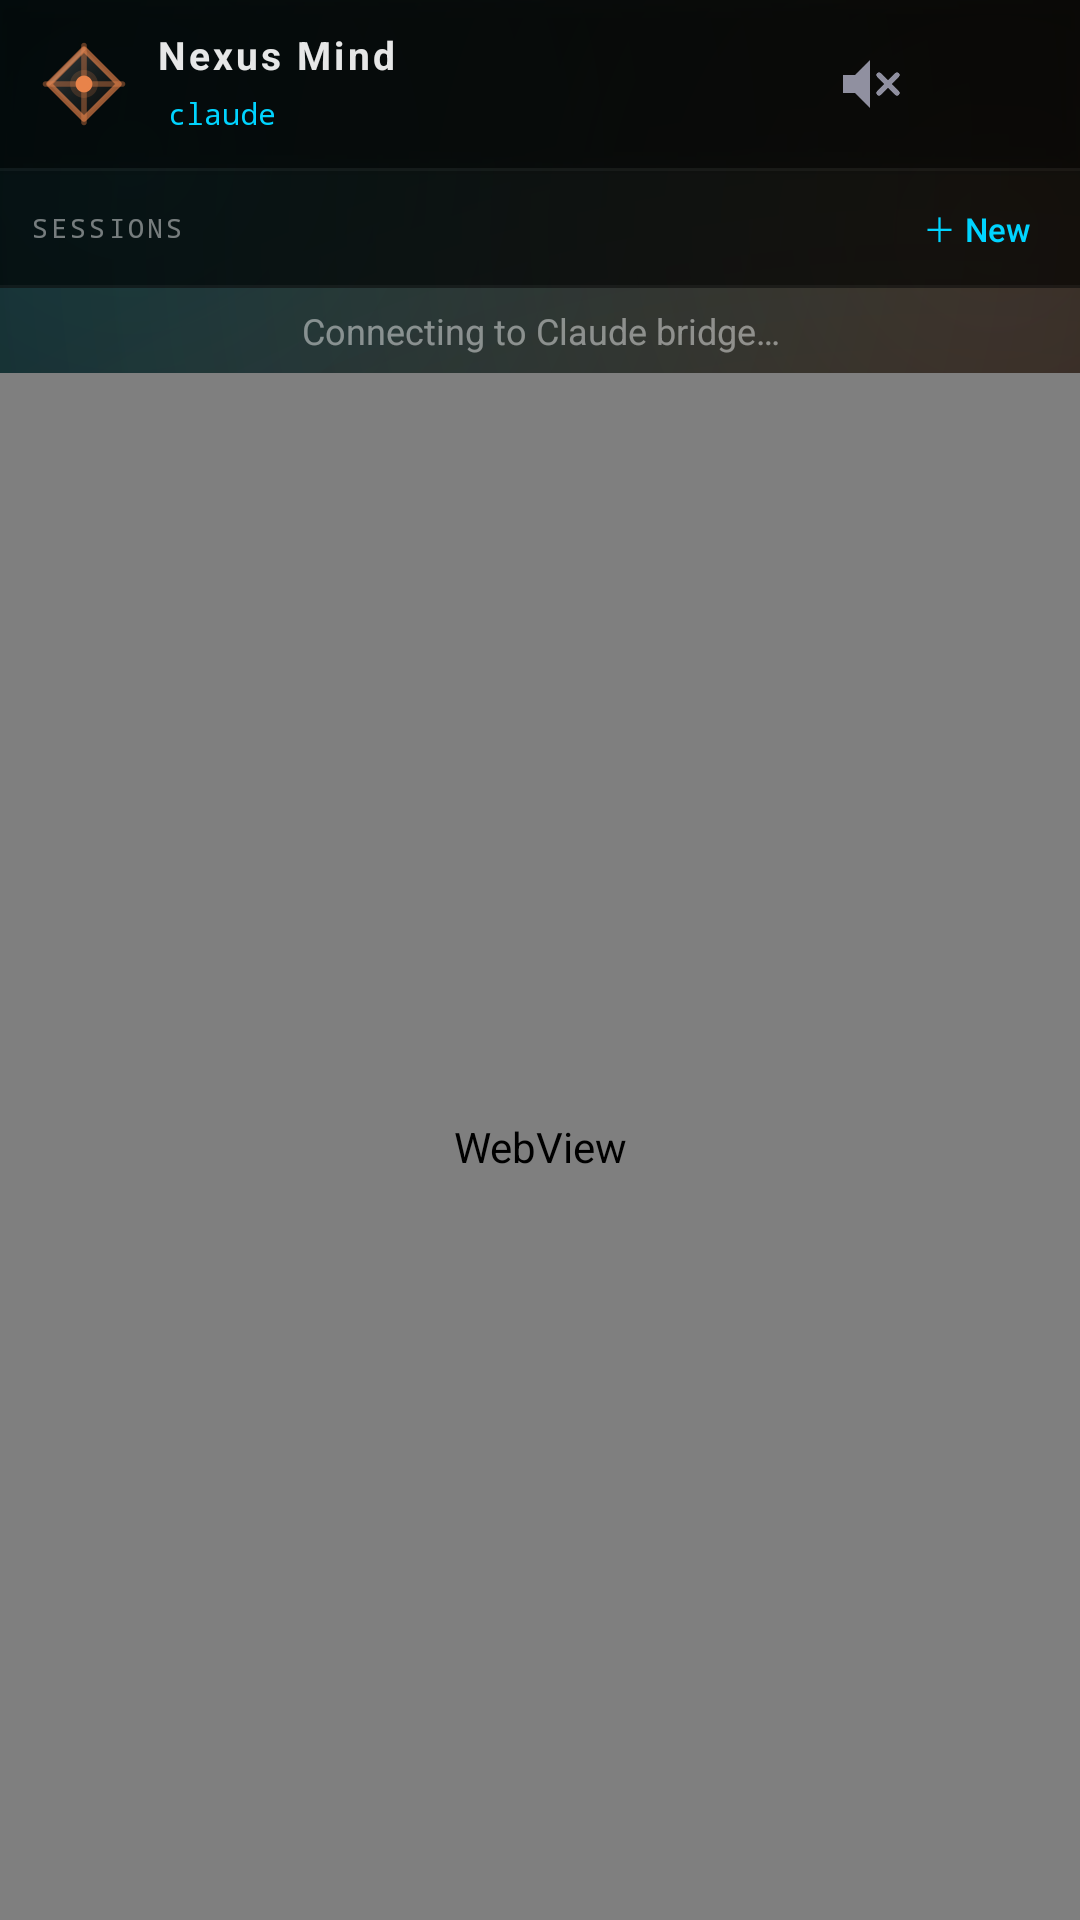

Icons on this 1080*1920 Android screen, each with its box as (x1, y1, x2, y2):
Toggle TTS: (843, 60, 900, 108)
